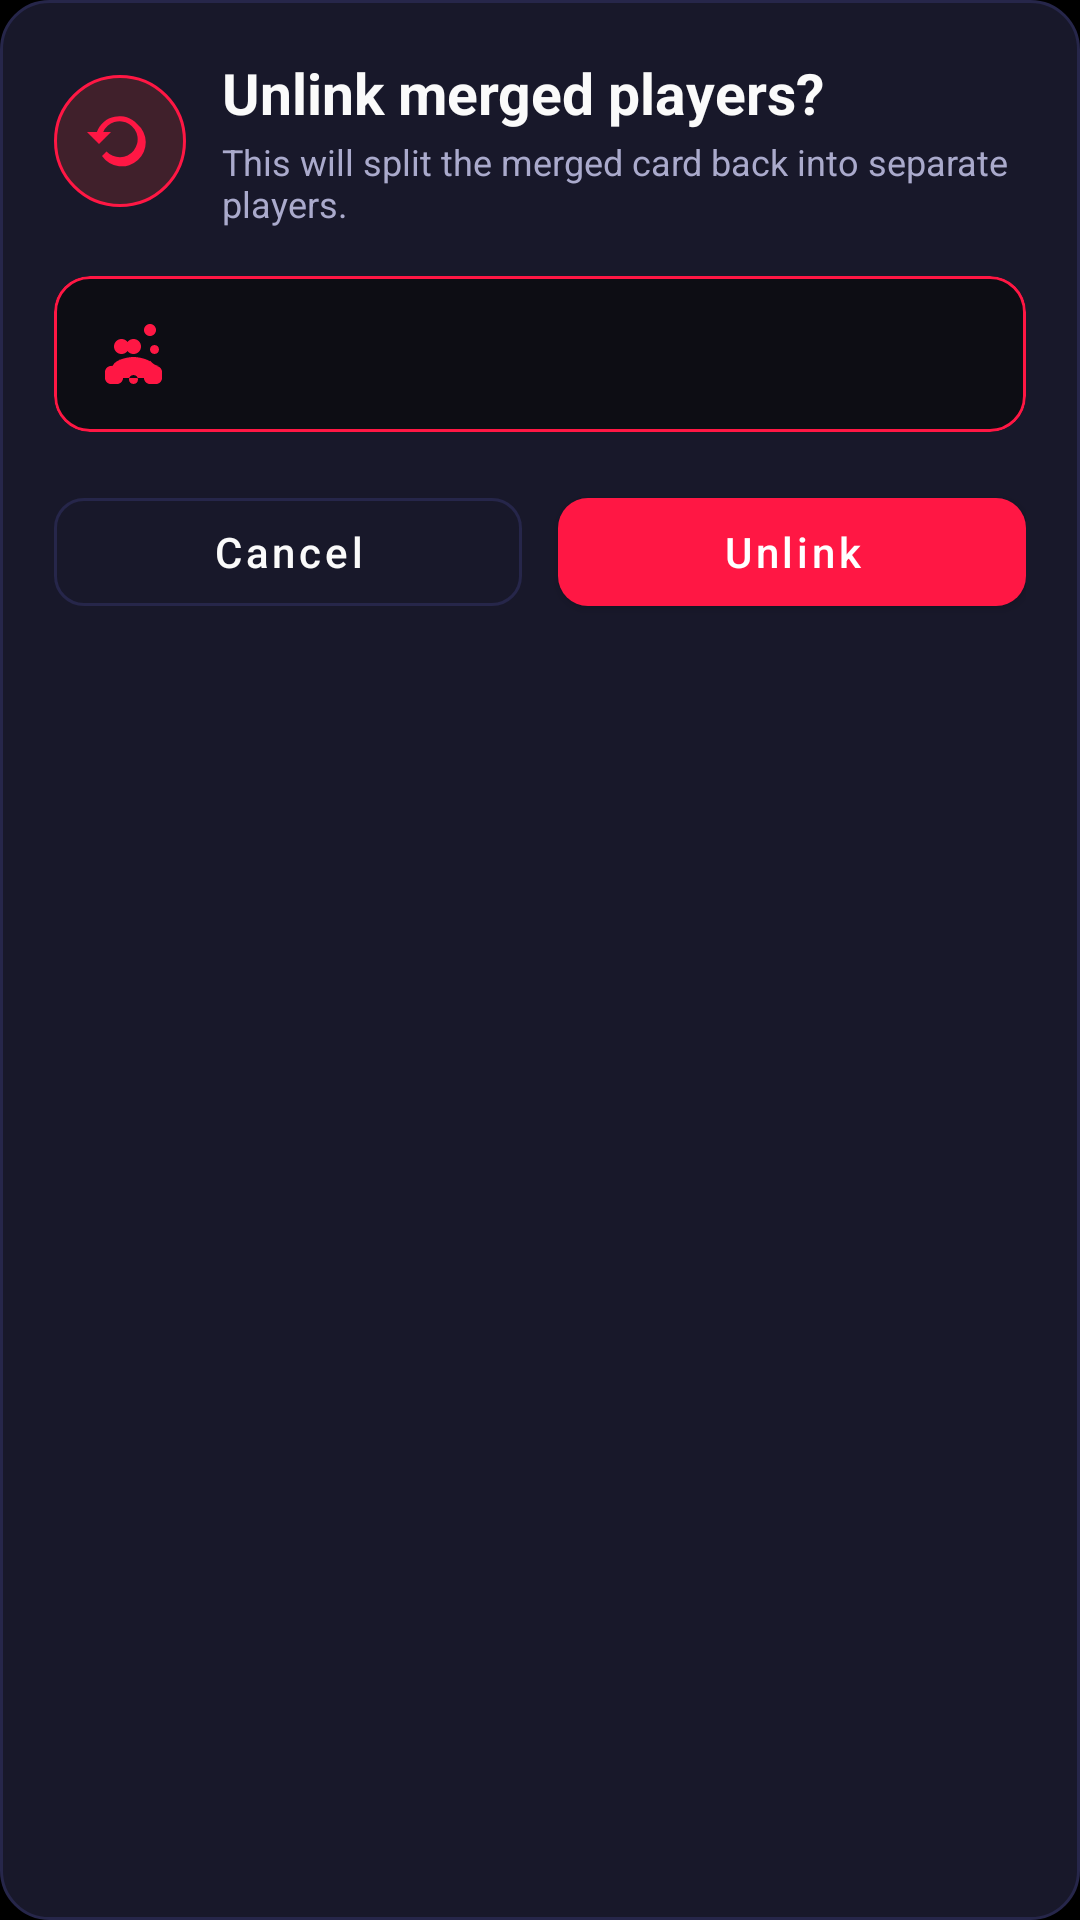

Icons on this 1080x1920 Android screen, each with its box as (x1, y1, x2, y2):
reset mapping: (54, 75, 186, 207)
